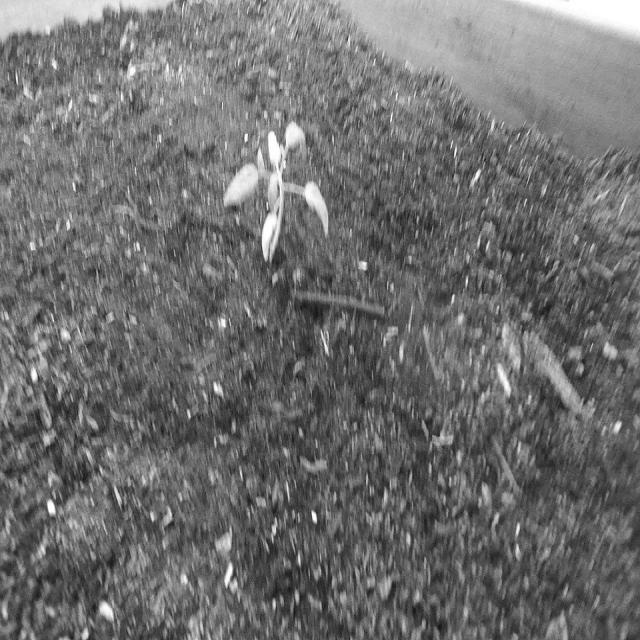Healthy: (220, 116, 334, 273)
